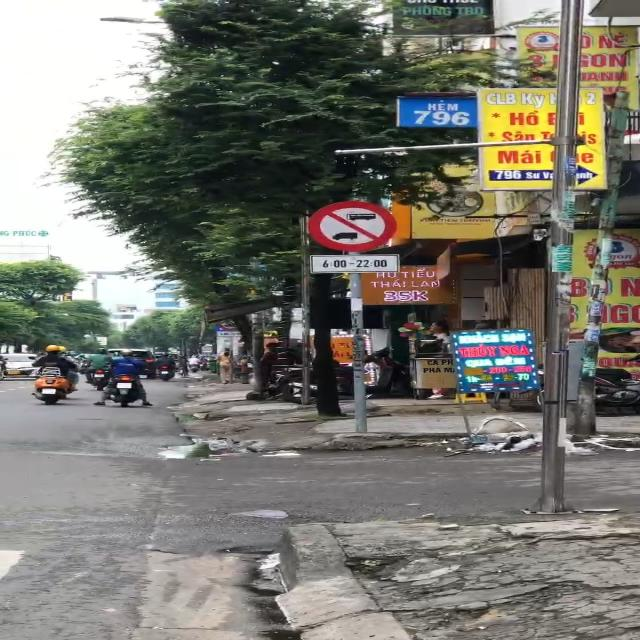Bien bao cam xe oto khach va xe oto tai: (296, 198, 401, 254)
